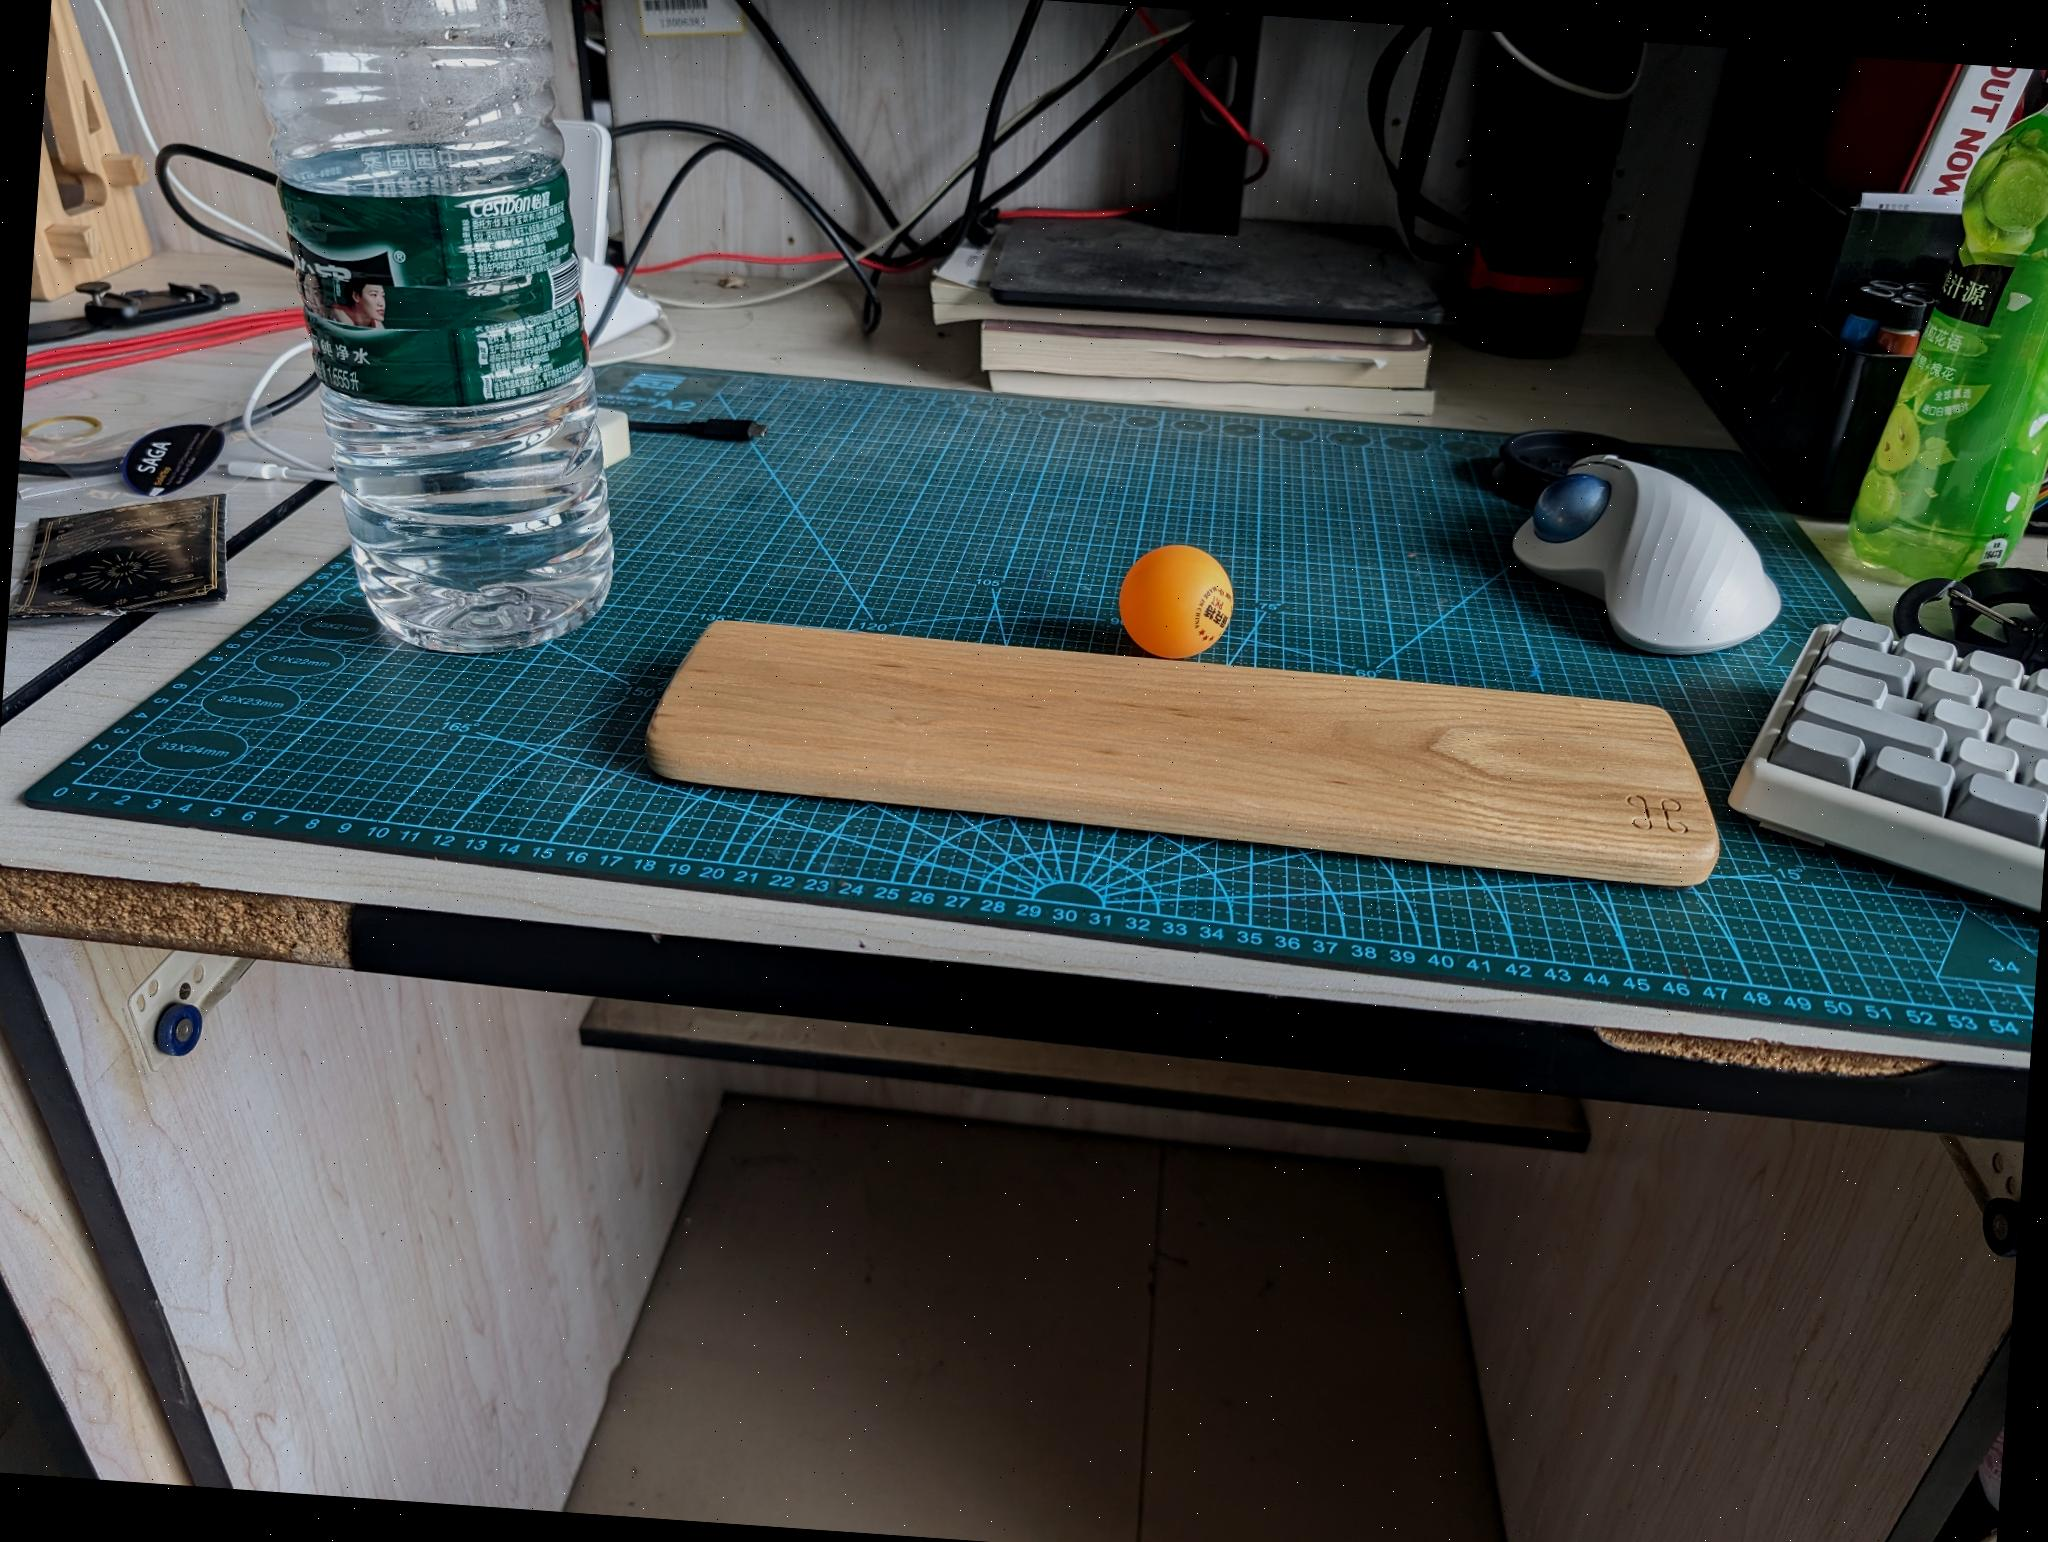ball: (1114, 539, 1239, 661)
